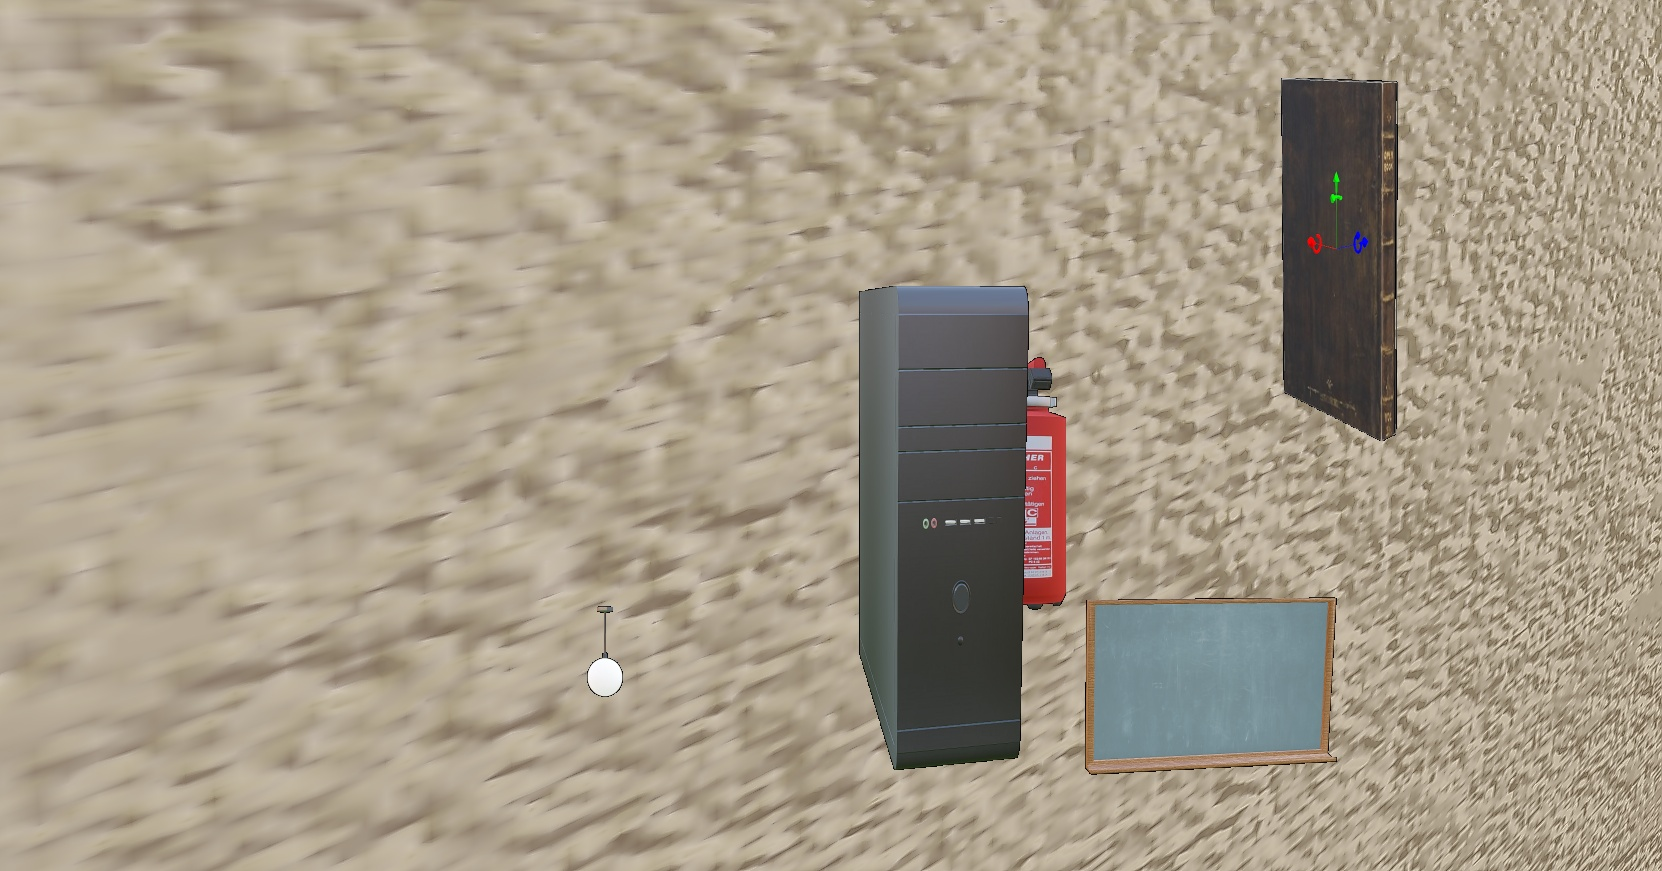libro: (1281, 77, 1398, 442)
luz: (587, 606, 623, 697)
ordenador: (858, 285, 1029, 771)
pisarra: (1085, 597, 1337, 775)
